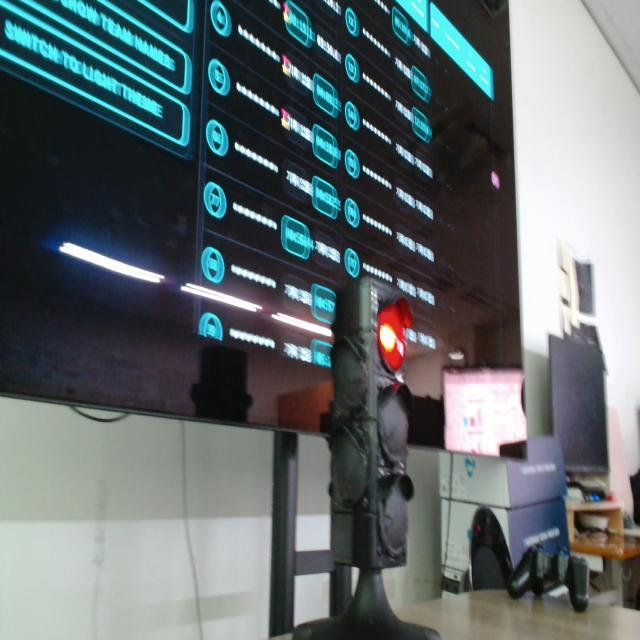red_light: (378, 299, 412, 372)
